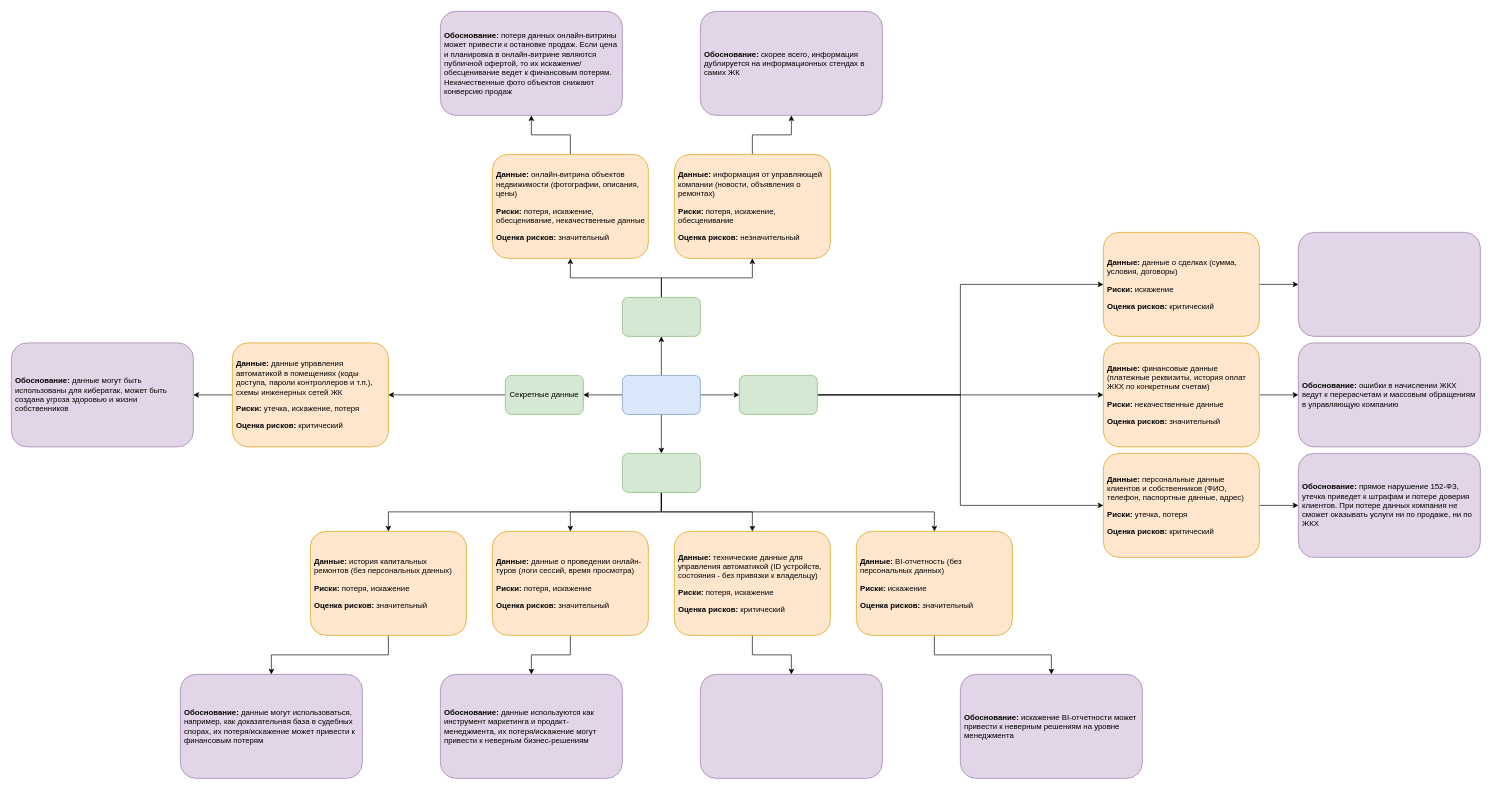
Image size: 1492x790. Some labels were removed from this diagram. The shapes that lost their labels are listed below. From the top down, each one's centre as x and y in pixels, then its label:
At [1389,284]: "Обоснование: искажение суммы или номера счета - прямой финансовый ущерб".
At [661,316]: "Публичные данные".
At [661,394]: "Безопасность данных".
At [778,394]: "Конфиденциальные данные".
At [661,472]: "Внутренние данные".
At [791,726]: "Обоснование: потеря технических данных может привести к кибератакам".
